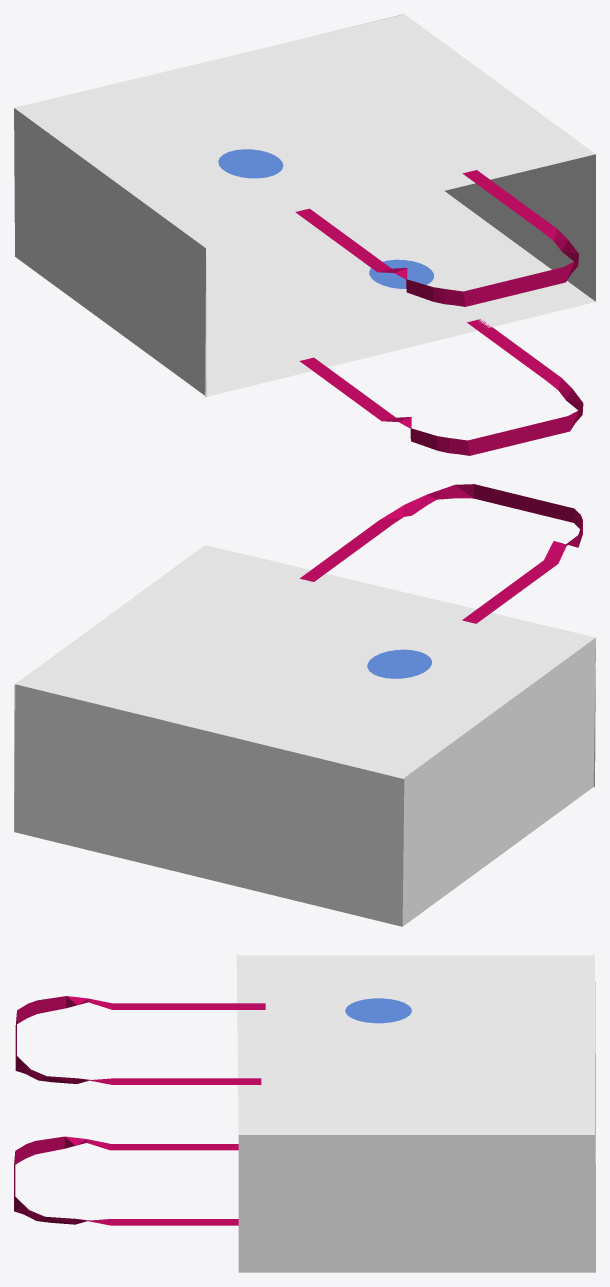
3 renders of one model, top to bottom at view 1: azimuth 30°, elevation 25°; view 2: azimuth 150°, elevation 25°; view 3: azimuth 270°, elevation 25°, orthographic. The views are drawn at different scales.
Parts seen in each view (by area): view 1: shopping bag; view 2: shopping bag; view 3: shopping bag.
Boxes of the visible parts, box(x1,y1,x2,y2) form: shopping bag: box(14, 14, 595, 455); shopping bag: box(14, 484, 595, 926); shopping bag: box(14, 955, 595, 1272).
Bounding box in the file's own units: 7.48 × 3.03 × 10.35.
